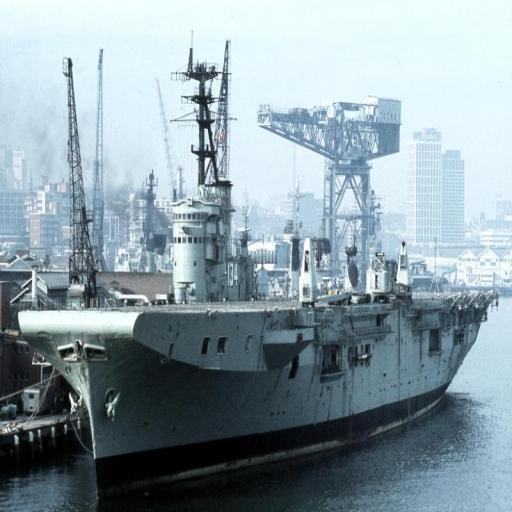Portanaves: (15, 156, 498, 511)
